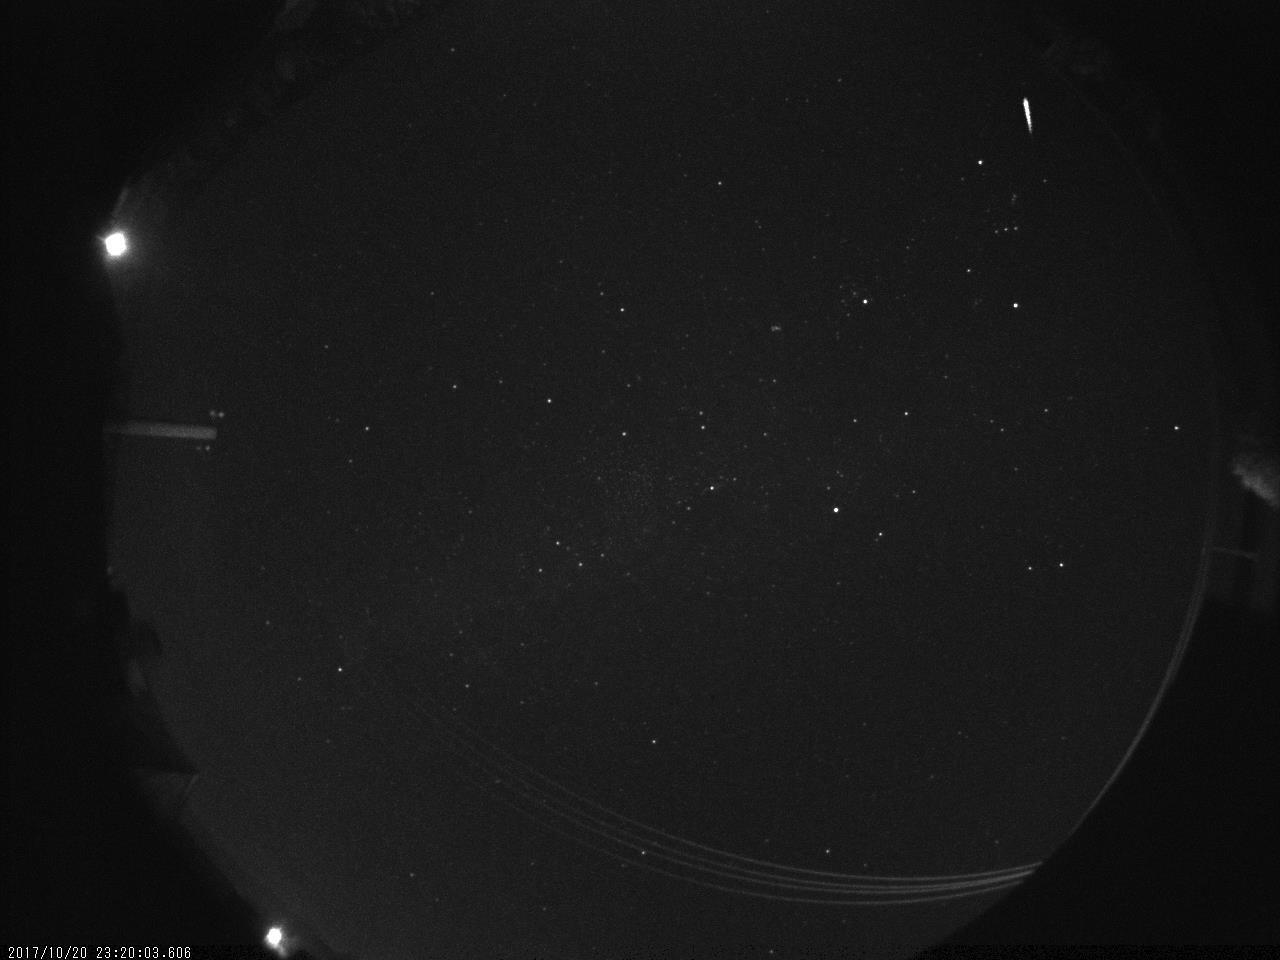Meteor: (1018, 93, 1038, 138)
